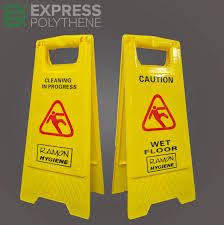wet caution sign: (110, 29, 194, 224), (14, 31, 98, 225)
